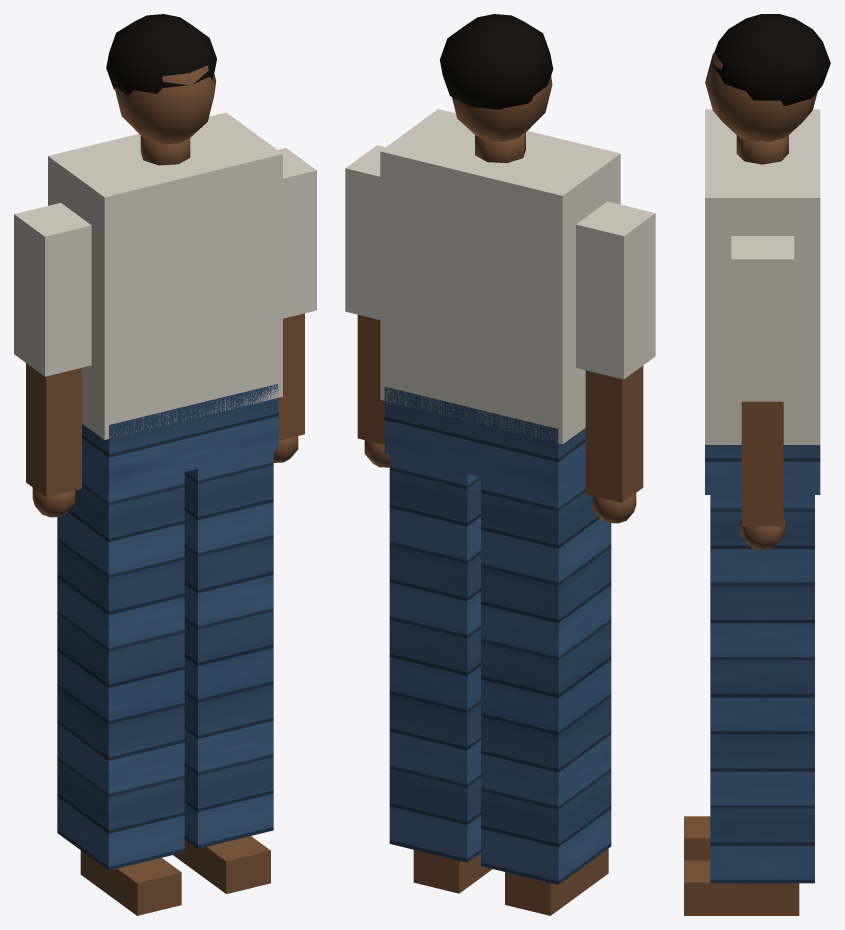
The model's file is civilian.glb.
3 renders of one model, left to right at view 1: azimuth 30°, elevation 25°; view 2: azimuth 150°, elevation 25°; view 3: azimuth 270°, elevation 25°, orthographic. The views are drawn at different scales.
Visible parts, largest first — view 1: Torso, LegR, LegL, ArmR, Head, ArmL; view 2: Torso, LegR, LegL, ArmR, Head, ArmL; view 3: LegL, Torso, ArmL, Head, LegR.
Boxes of the visible parts, x1,y1,x2,y2 form: Torso: (48,112,282,490); LegR: (57,471,184,915); LegL: (173,450,273,893); ArmR: (14,203,91,517); Head: (106,14,216,144); ArmL: (273,148,316,462); Torso: (380,109,620,495); LegR: (481,476,611,915); LegL: (389,455,492,893); ArmR: (576,201,655,523); Head: (440,14,553,141); ArmL: (345,145,389,467); LegL: (684,495,814,915); Torso: (705,109,820,494); ArmL: (731,236,794,550); Head: (705,14,830,141); LegR: (684,816,710,860).
Bounding box in the file's own units: 0.61 × 1.82 × 0.28.
4 materials, 1 textured.
